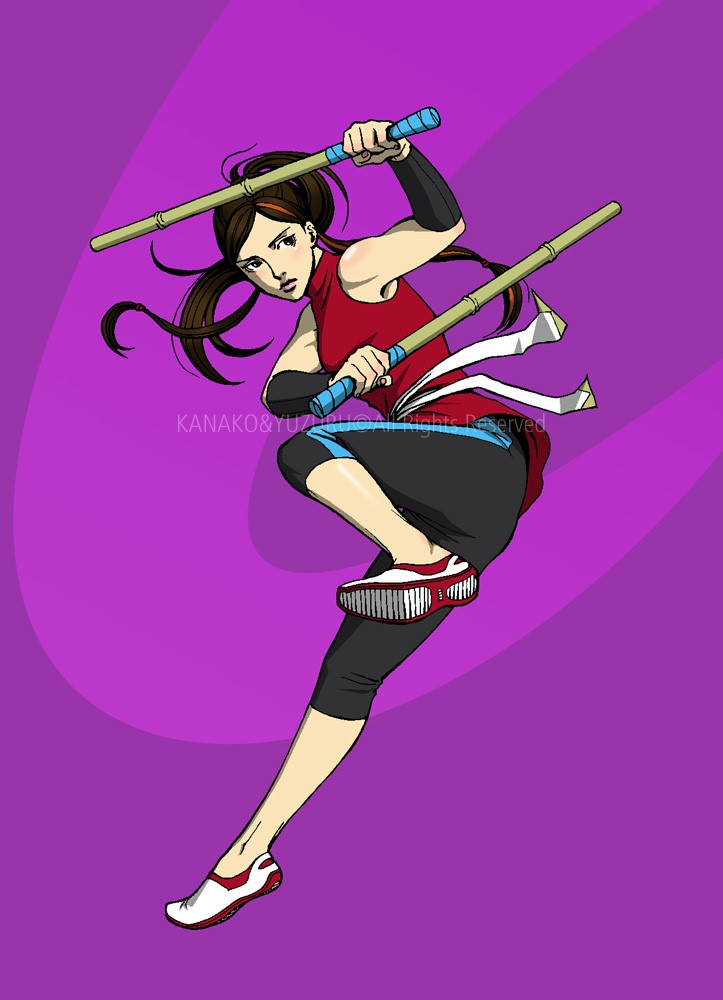baston_e: (325, 200, 611, 416), (99, 108, 425, 249)
baston_v: (422, 102, 447, 130), (305, 396, 328, 420), (85, 233, 107, 255), (608, 195, 627, 217)
